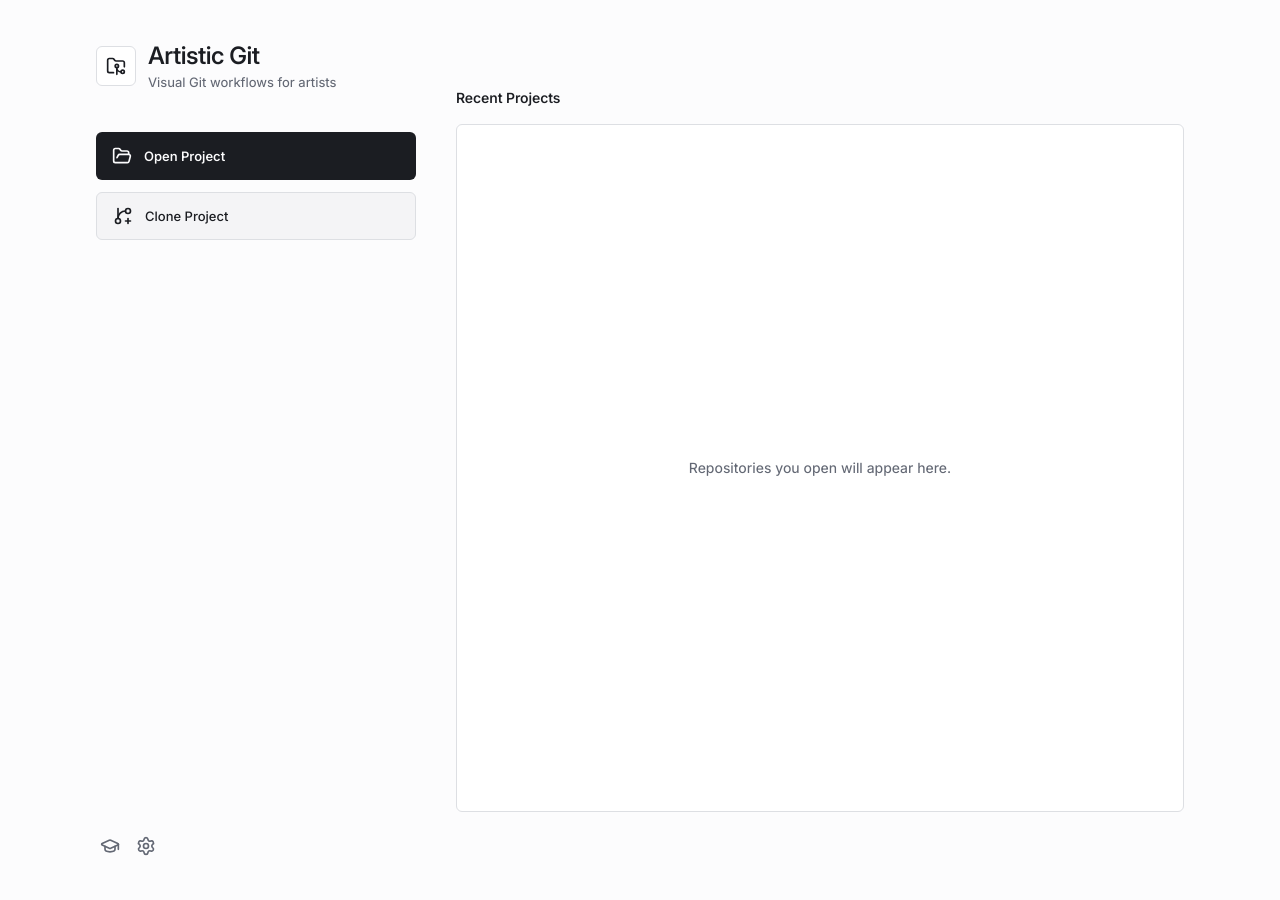
Test case: StartScreen clone flow › keeps the final clone event in an in-progress state
Click the button "Clone Project". click: (187, 216)
box: [96,192,416,240]
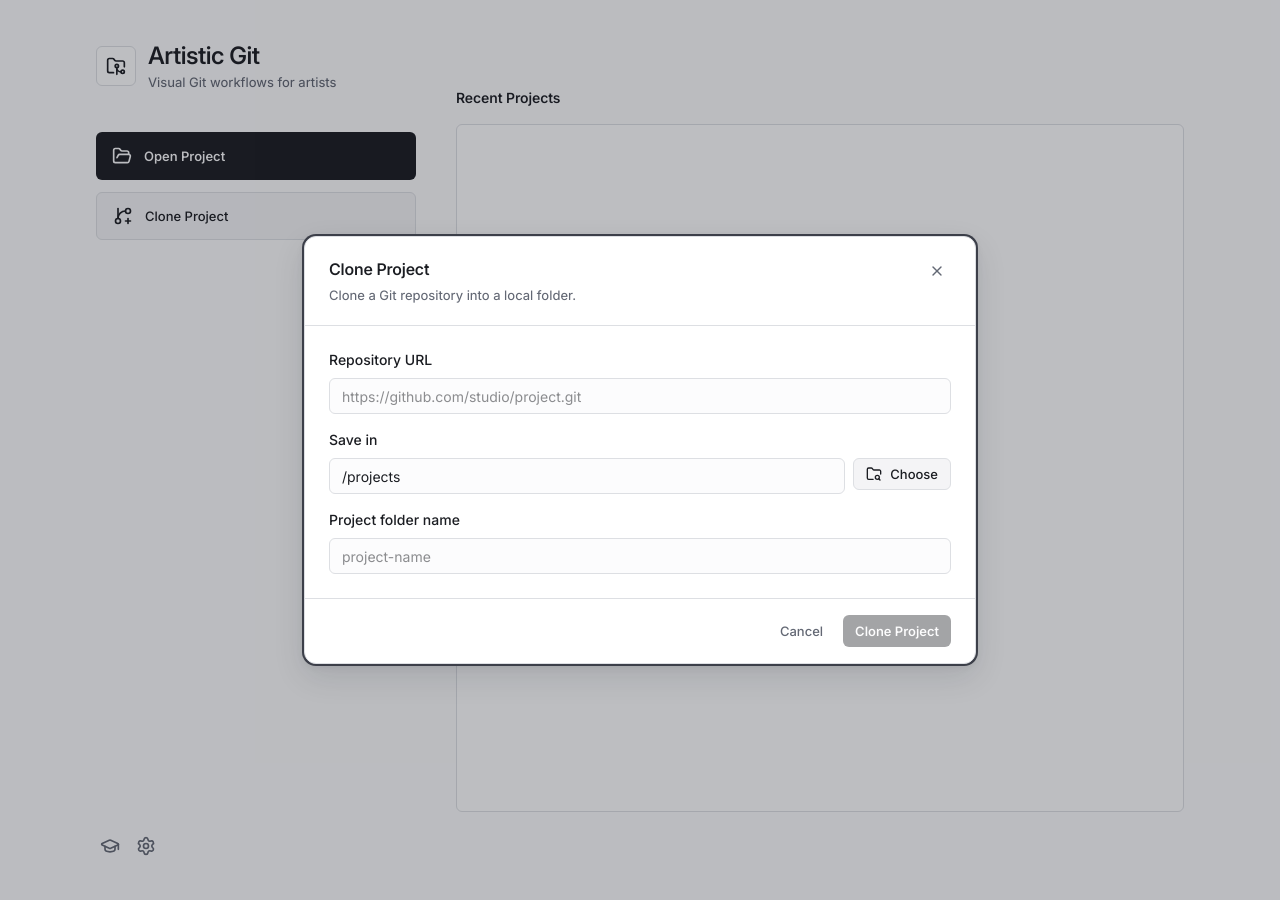
Type "https://github.com/studio/art-project.git" into the field labelled "Repository URL". click: (640, 396)
box: [329,378,951,414]
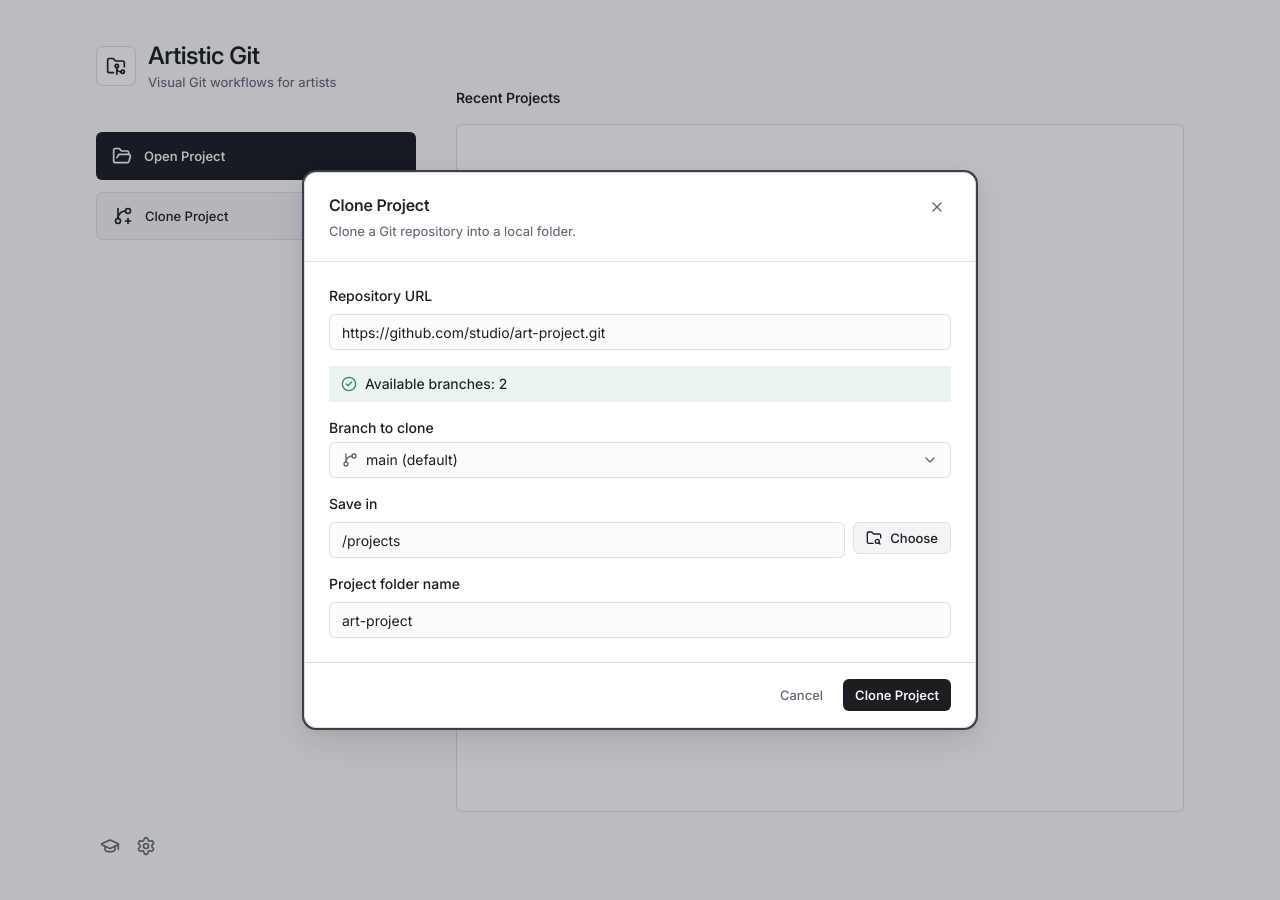
Result: the text "Checking repository and branches..." is shown at [329,366,951,402]
Result: the dropdown named "Branch to clone" is shown at [329,442,951,478]
Click the button "Clone Project". click: (897, 695)
box: [843,679,951,711]
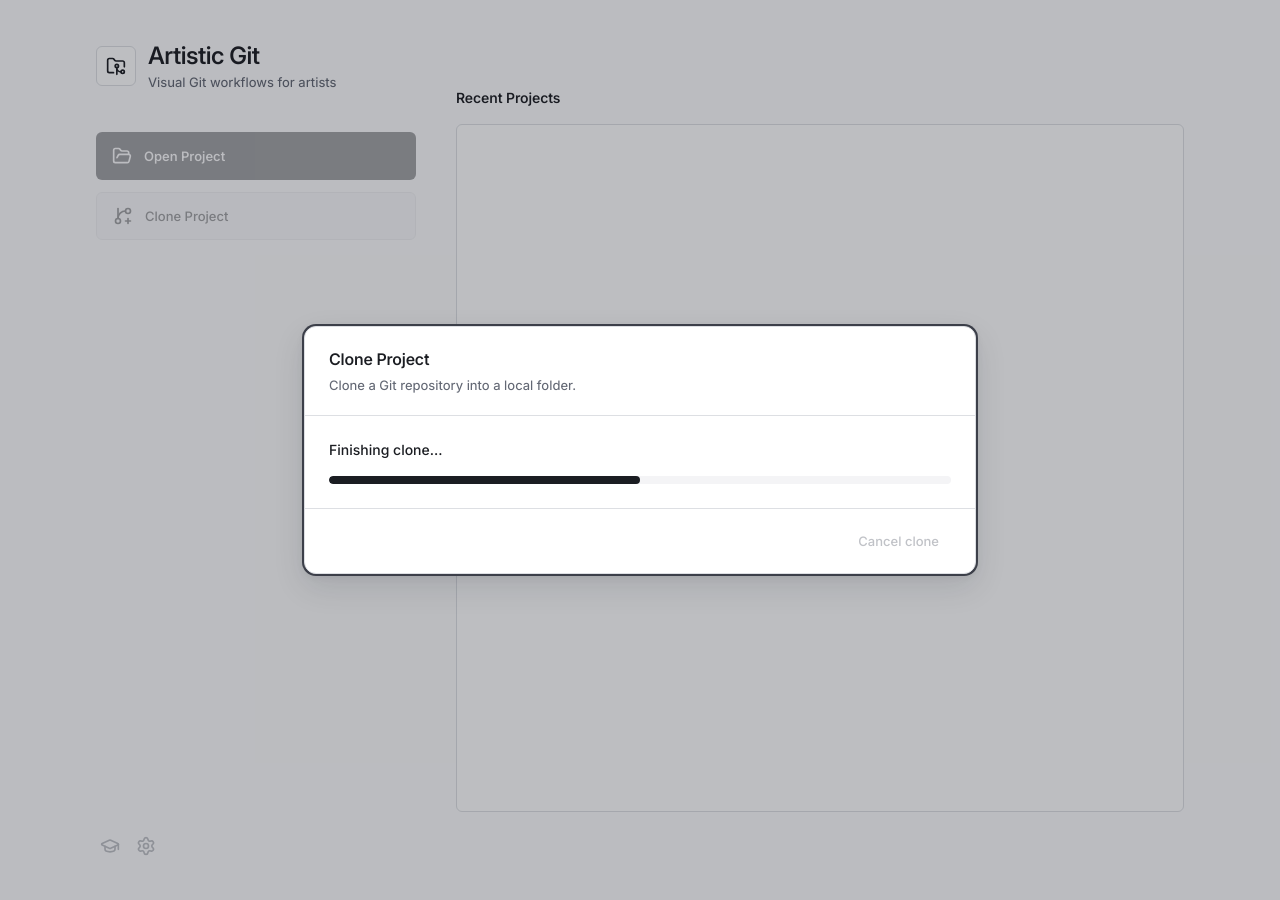
Result: the text "Finishing clone..." is shown at [329,440,442,460]
